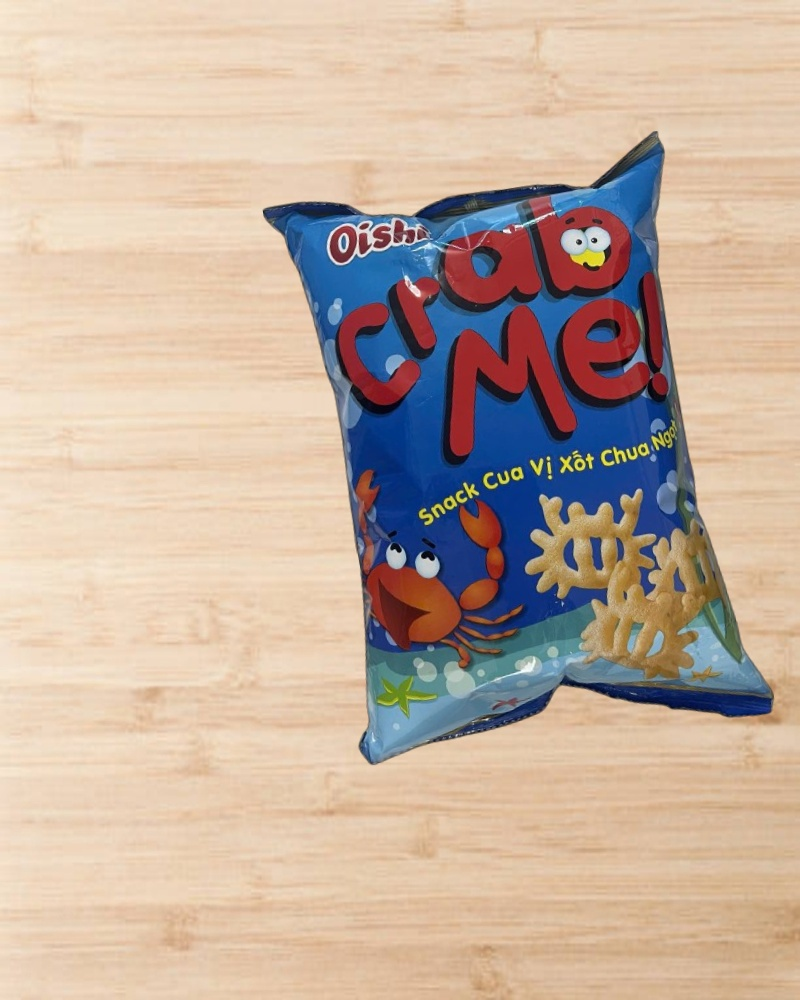Snack chay: (262, 129, 777, 787)
